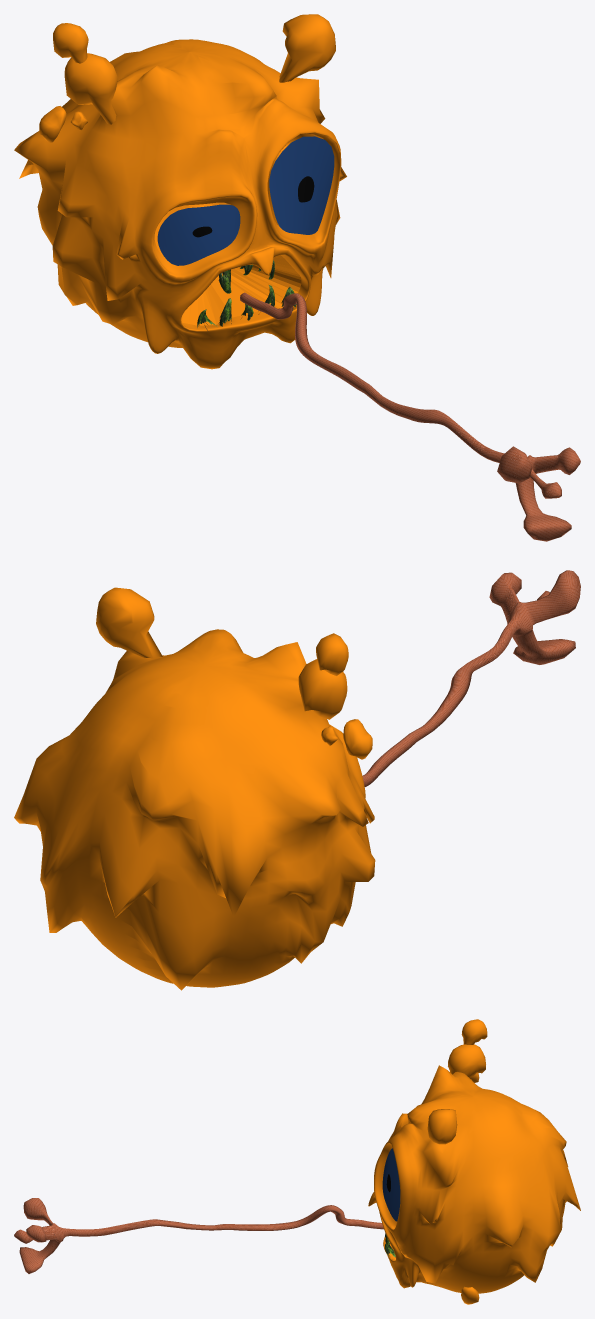
The model's file is Blob_Forme1.fbx.
3 views of the same model, one above another, from view 1: azimuth 30°, elevation 25°; view 2: azimuth 150°, elevation 25°; view 3: azimuth 270°, elevation 25° (orthographic). The views are drawn at different scales.
Visible parts, largest first — view 1: Blob Forme 1; view 2: Blob Forme 1; view 3: Blob Forme 1.
Boxes of the visible parts, box(x1,y1,x2,y2) form: Blob Forme 1: box(14, 14, 580, 541); Blob Forme 1: box(14, 570, 580, 990); Blob Forme 1: box(14, 1019, 580, 1304).
Bounding box in the file's own units: 213 × 533 × 234.
Materials: 5 (2 with a texture image).
